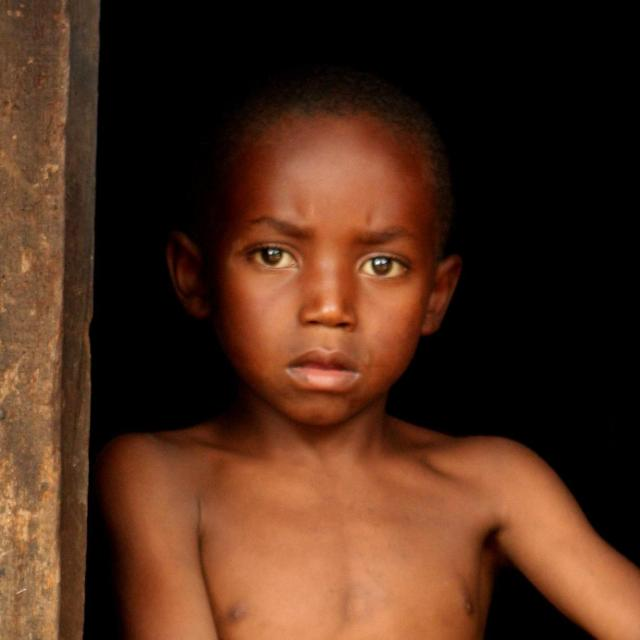no-glass: (254, 248, 411, 277)
